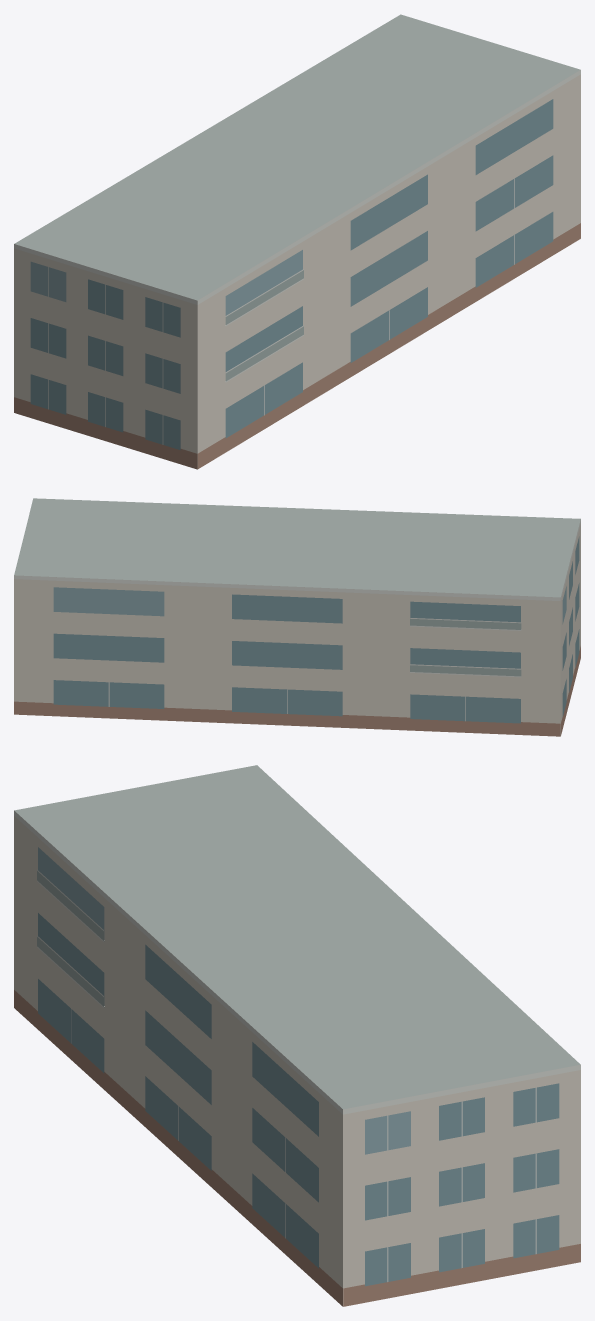
Rendered from survey-upis-32536360.glb.
The picture shows the model from 3 angles, top to bottom: view 1: azimuth 30°, elevation 25°; view 2: azimuth 150°, elevation 25°; view 3: azimuth 270°, elevation 25°; orthographic projection. The views are drawn at different scales.
Parts seen in each view (by area): view 1: survey-upis-32536360.tmp; view 2: survey-upis-32536360.tmp; view 3: survey-upis-32536360.tmp.
Part boxes in pixels (x1,y1,x2,y2): survey-upis-32536360.tmp: (14,14,580,469); survey-upis-32536360.tmp: (14,498,580,736); survey-upis-32536360.tmp: (14,765,580,1306).
Bounding box in the file's own units: 34.22 × 9.15 × 23.81.
